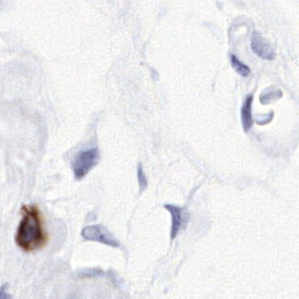Lymphocyte: (15, 204, 45, 252)
